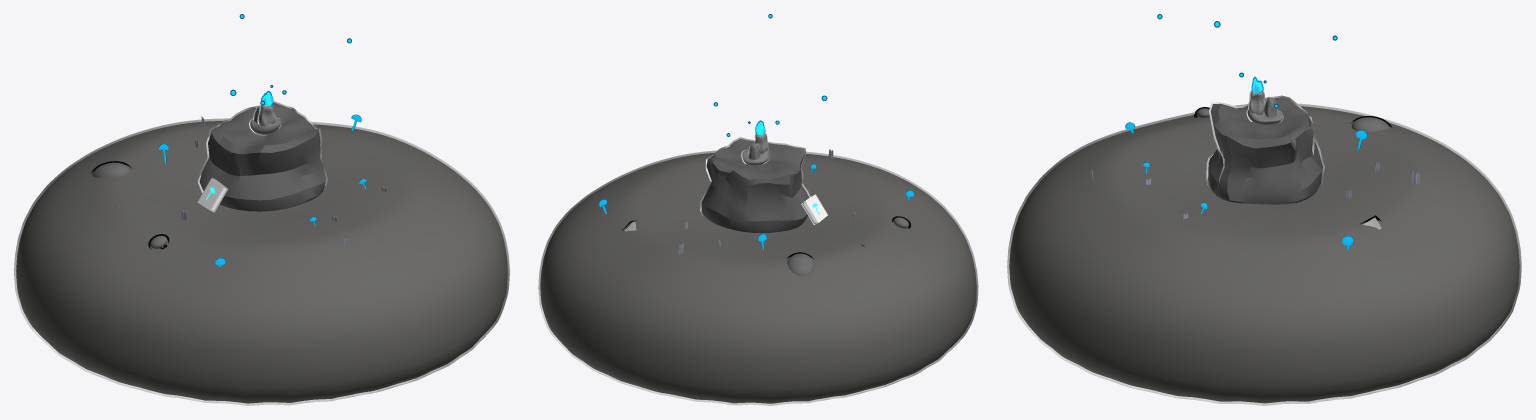
File: magic_mushroom_altar.glb
The picture shows the model from 3 angles, left to right: view 1: azimuth 30°, elevation 25°; view 2: azimuth 150°, elevation 25°; view 3: azimuth 270°, elevation 25°; orthographic projection. The views are drawn at different scales.
Parts seen in each view (by area): view 1: Cylinder.046_0; view 2: Cylinder.046_0; view 3: Cylinder.046_0.
Boxes of the visible parts, box(x1,y1,x2,y2) form: Cylinder.046_0: box(14, 14, 509, 405); Cylinder.046_0: box(538, 14, 978, 405); Cylinder.046_0: box(1007, 14, 1521, 405).
Size of the model in its own units: 5.38 by 3.83 by 5.38.
Materials: 22 (1 with a texture image).
